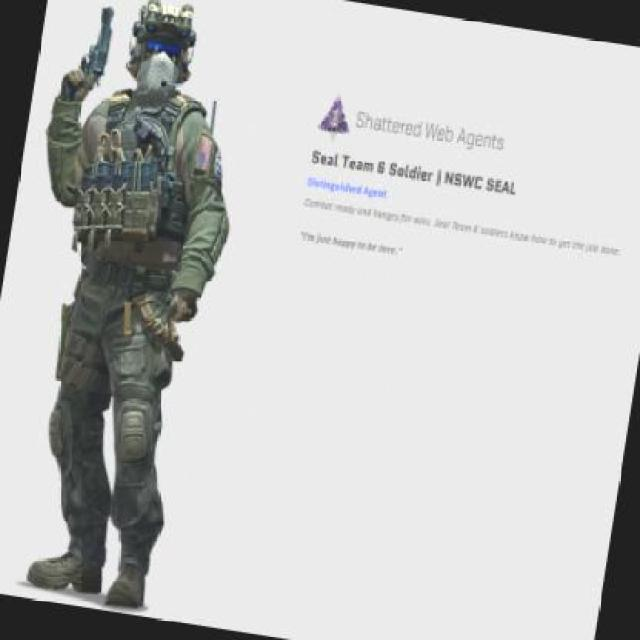MIL_Pax: (0, 0, 266, 612)
